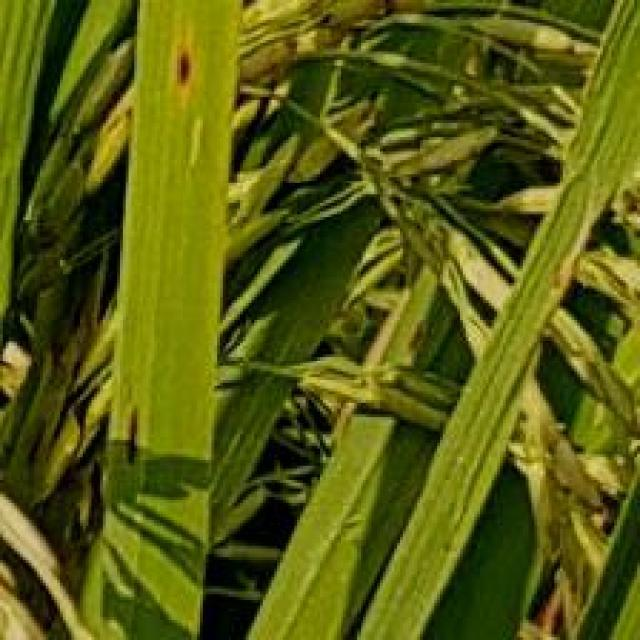Rice_Brownspot: (160, 34, 194, 109), (120, 388, 149, 472)
